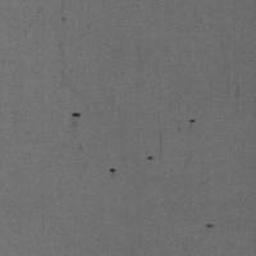Inclusion: (56, 41, 81, 96), (67, 111, 82, 132), (234, 83, 242, 113), (59, 15, 68, 23), (145, 155, 155, 161), (205, 223, 215, 229), (188, 119, 197, 124), (109, 168, 116, 174)
